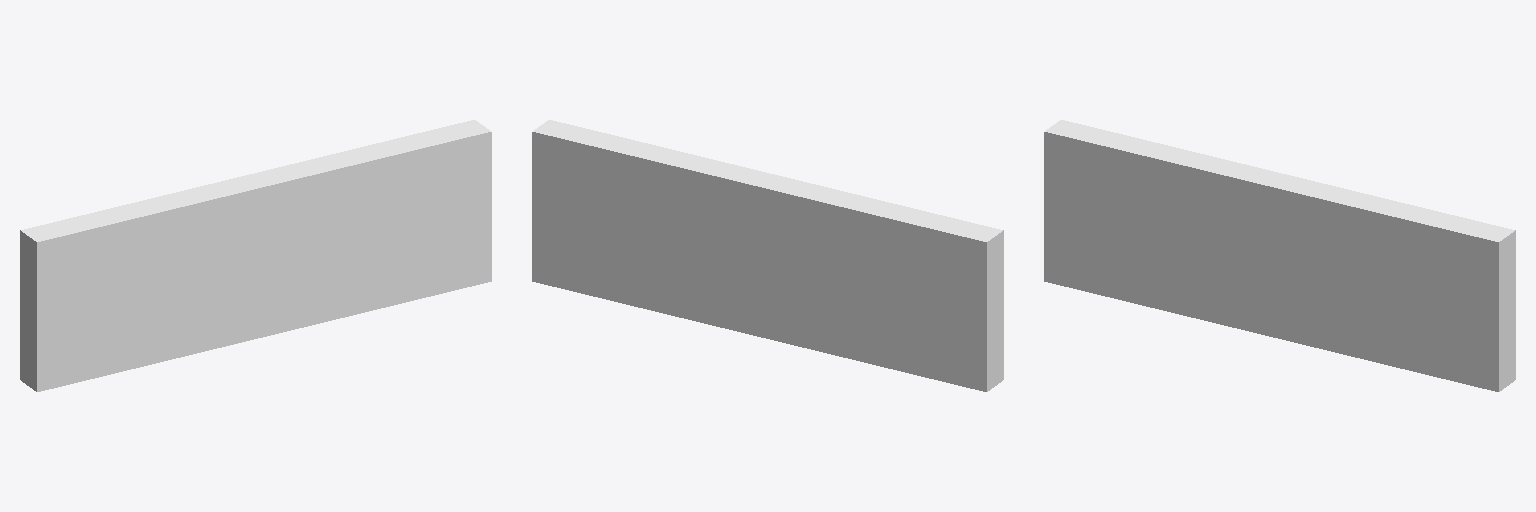
The robot description file, URDF, robot "front_boundary_xieku.SLDPRT":
<?xml version="1.0" encoding="utf-8"?>
<!-- This URDF was automatically created by SolidWorks to URDF Exporter! Originally created by [author] ([email redacted]) 
     Commit Version: 1.5.1-0-g916b5db  Build Version: 1.5.7152.31018
     For more information, please see http://wiki.ros.org/sw_urdf_exporter -->
<robot
  name="front_boundary_xieku.SLDPRT">
  <link
    name="front_boundary_xieku.SLDPRT">
    <inertial>
      <origin
        xyz="0.1585 -0.01 0.05"
        rpy="0 0 0" />
      <mass
        value="0.634" />
      <inertia
        ixx="0.00054947"
        ixy="-5.7772E-20"
        ixz="-3.8821E-21"
        iyy="0.0058375"
        iyz="-3.10560171329355E-20"
        izz="0.0053303" />
    </inertial>
    <visual>
      <origin
        xyz="0 0 0"
        rpy="1.5707963267949 0 0" />
      <geometry>
        <mesh
          filename="package://front_boundary_xieku.SLDPRT/meshes/front_boundary_xieku.SLDPRT.STL" />
      </geometry>
      <material
        name="">
        <color
          rgba="1 1 1 1" />
        <texture
          filename="package://front_boundary_xieku.SLDPRT/textures/" />
      </material>
    </visual>
    <collision>
      <origin
        xyz="0 0 0"
        rpy="1.5707963267949 0 0" />
      <geometry>
        <mesh
          filename="package://front_boundary_xieku.SLDPRT/meshes/front_boundary_xieku.SLDPRT.STL" />
      </geometry>
    </collision>
  </link>
</robot>

--- Render facts (derived) ---
Views: 3 orthographic renders of the robot side by side, from view 1: azimuth 30°, elevation 25°; view 2: azimuth 150°, elevation 25°; view 3: azimuth 330°, elevation 25°.
Robot: front_boundary_xieku.SLDPRT — 1 links, 0 joints (none); root link front_boundary_xieku.SLDPRT; default pose: all joints at 0.
Visible links, largest first — view 1: front_boundary_xieku.SLDPRT; view 2: front_boundary_xieku.SLDPRT; view 3: front_boundary_xieku.SLDPRT.
Boxes of the visible links, left/top/right/bottom form: front_boundary_xieku.SLDPRT: left=20, top=120, right=491, bottom=391; front_boundary_xieku.SLDPRT: left=532, top=120, right=1003, bottom=391; front_boundary_xieku.SLDPRT: left=1044, top=120, right=1515, bottom=391.
Size in the robot's own frame: 0.317 by 0.02 by 0.1 metres.
1 mesh visuals loaded from 1 distinct referenced files (1 binary STL).